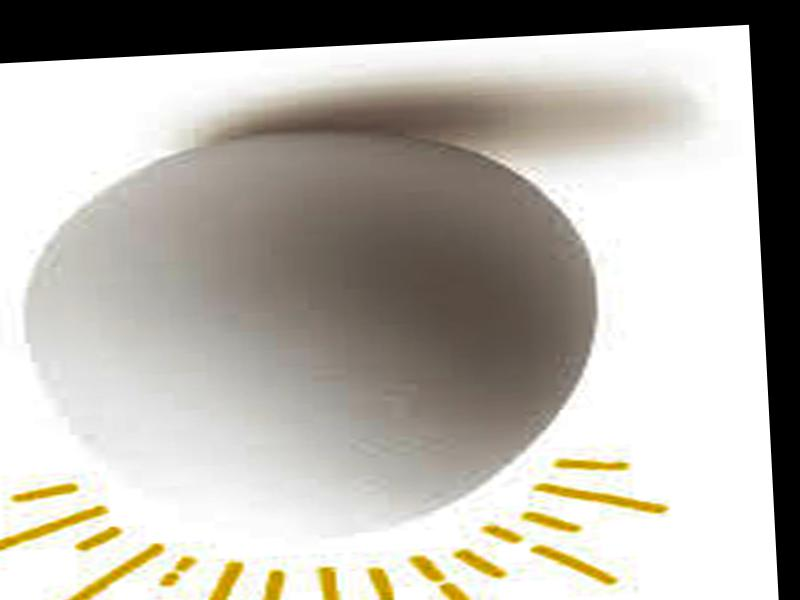Eggs: (10, 117, 607, 549)
